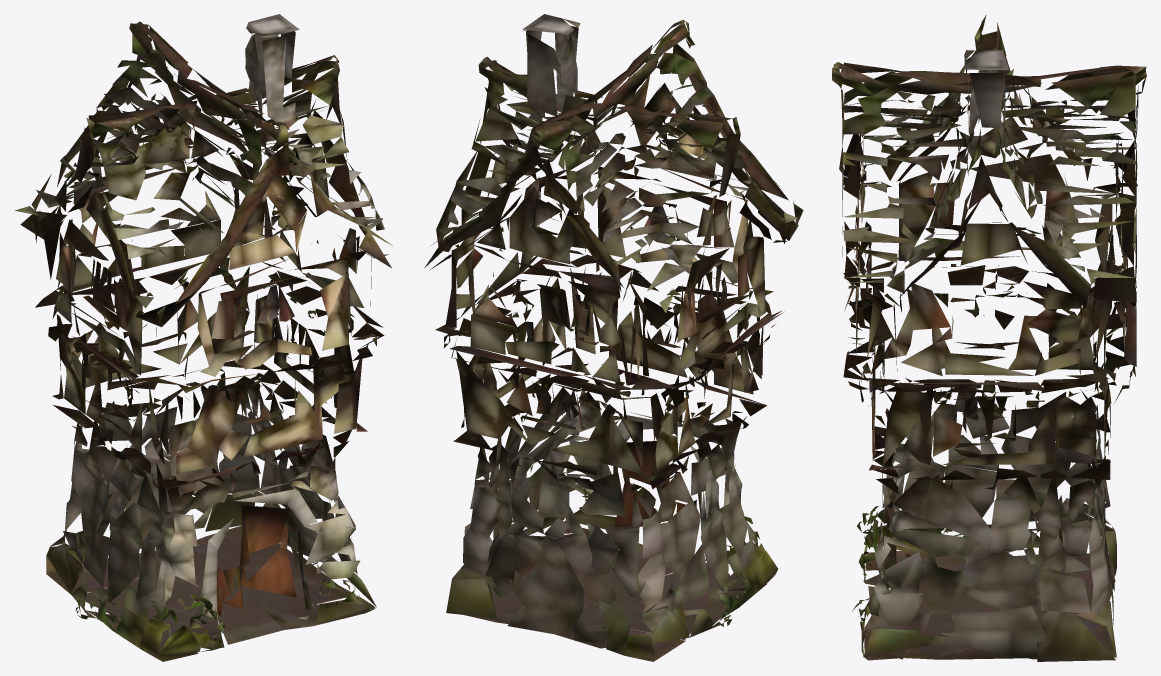
File: Timberstone_Tower_Hou_town.glb
3 renders of one model, left to right at view 1: azimuth 30°, elevation 25°; view 2: azimuth 150°, elevation 25°; view 3: azimuth 270°, elevation 25°, orthographic. The views are drawn at different scales.
Visible parts, largest first — view 1: Timberstone_Tower_Hou; view 2: Timberstone_Tower_Hou; view 3: Timberstone_Tower_Hou.
Part boxes in pixels (bbox=[...]): Timberstone_Tower_Hou: bbox=[15, 14, 392, 661]; Timberstone_Tower_Hou: bbox=[424, 14, 803, 661]; Timberstone_Tower_Hou: bbox=[832, 15, 1146, 661].
Size of the model in its own units: 0.9275 by 1.91 by 0.9398.
Materials: 1 (1 with a texture image).
